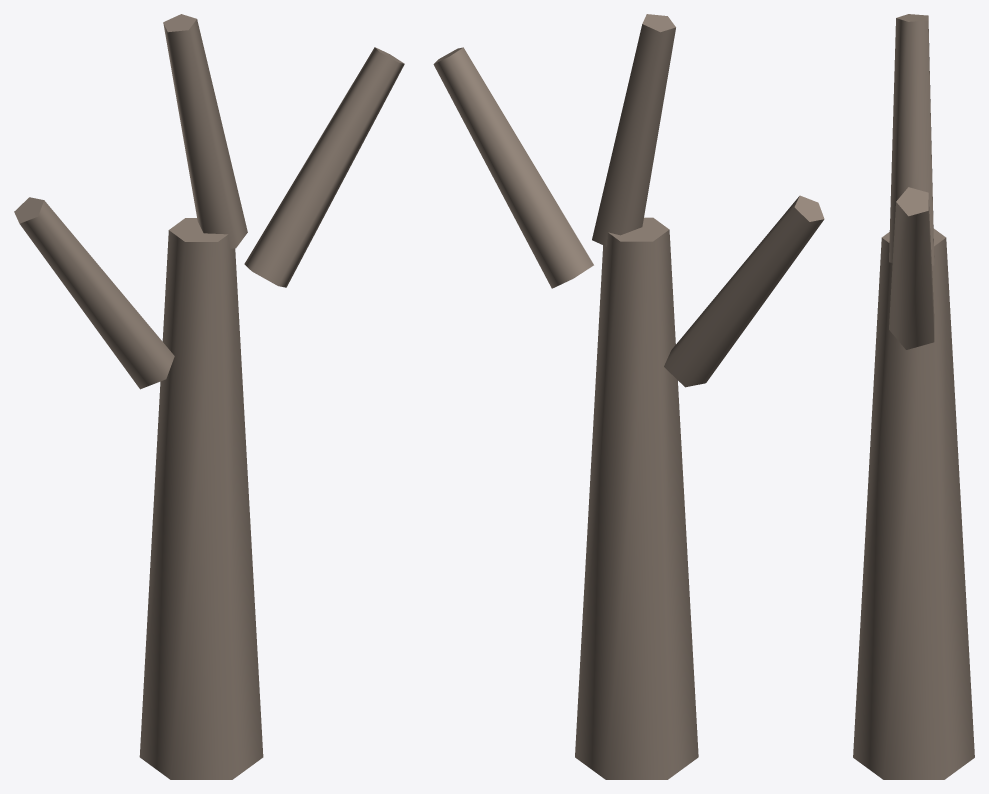
Rendered from tree_dead.glb.
The picture shows the model from 3 angles, left to right: view 1: azimuth 30°, elevation 25°; view 2: azimuth 150°, elevation 25°; view 3: azimuth 270°, elevation 25°; orthographic projection.
Parts seen in each view (by area): view 1: tree_dead; view 2: tree_dead; view 3: tree_dead.
Part boxes in pixels (<box>): tree_dead: <box>14,14,404,779</box>; tree_dead: <box>433,14,824,779</box>; tree_dead: <box>853,14,974,779</box>.
Size of the model in its own units: 1.22 by 2.25 by 0.34.
